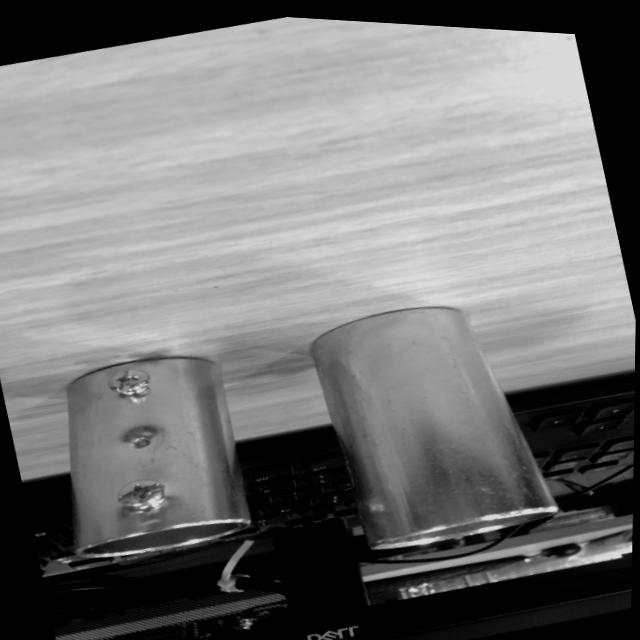Co_Lon: (301, 279, 559, 571)
Co_Nho: (42, 345, 252, 565)
